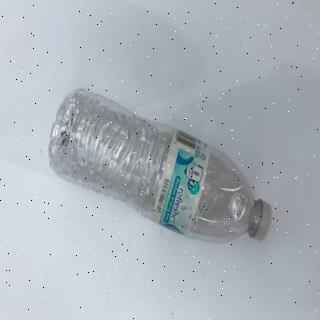Plastic-bottle: (49, 87, 273, 245)
